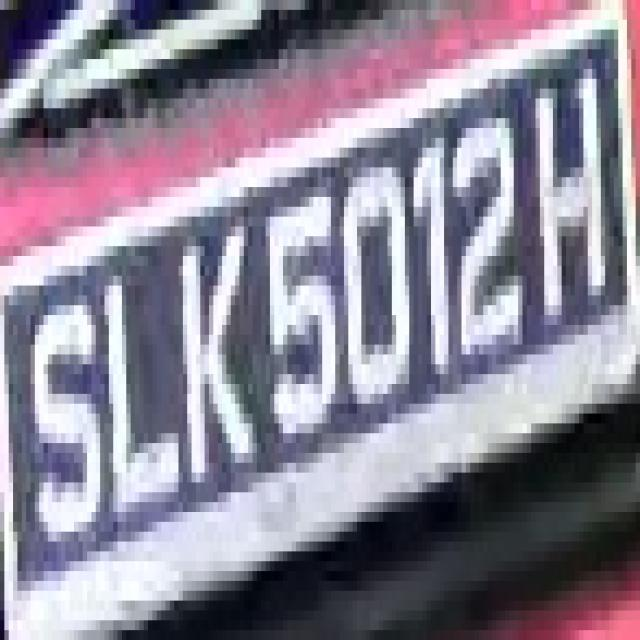0: (331, 148, 413, 433)
1: (418, 109, 453, 424)
2: (444, 89, 536, 394)
5: (257, 157, 344, 453)
H: (527, 59, 618, 335)
K: (174, 187, 257, 502)
L: (91, 207, 183, 502)
S: (22, 266, 109, 571)
